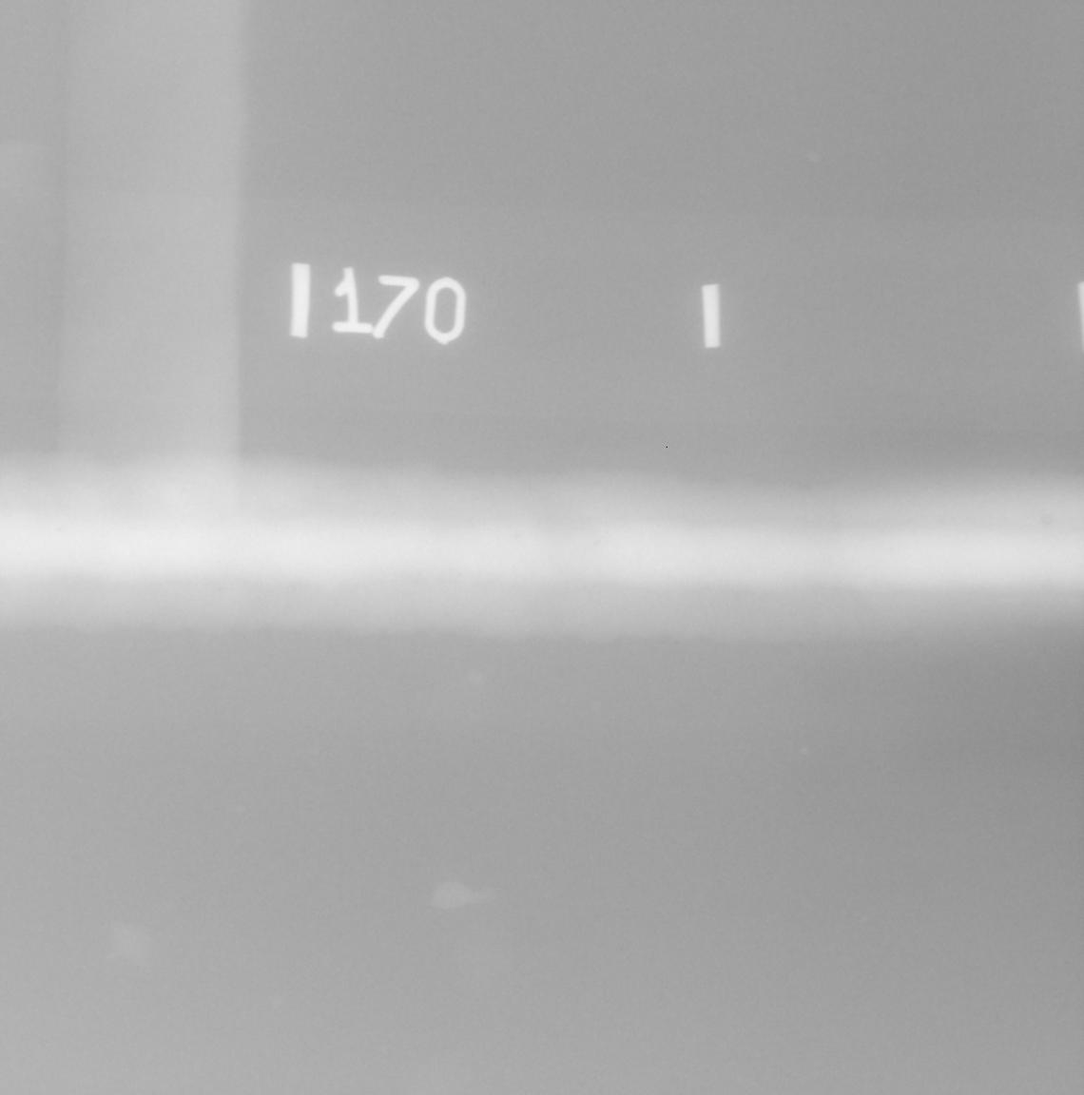Pore/Porosity: (1042, 514, 1051, 524), (515, 534, 520, 539), (594, 541, 599, 545), (58, 529, 62, 532)
